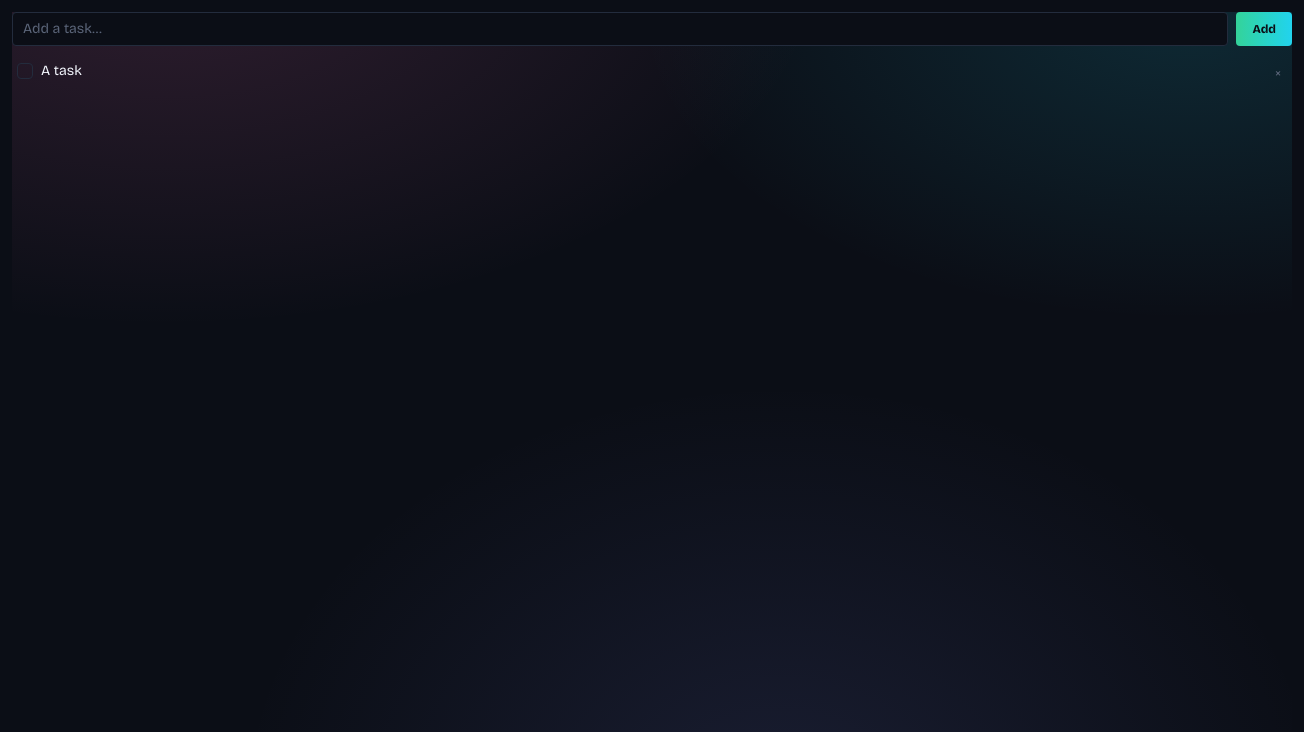
Test: editing a todo › abandons the edit on Escape
Click the button "A task" at {"x": 61, "y": 70}, box left=37, top=59, right=1267, bottom=82
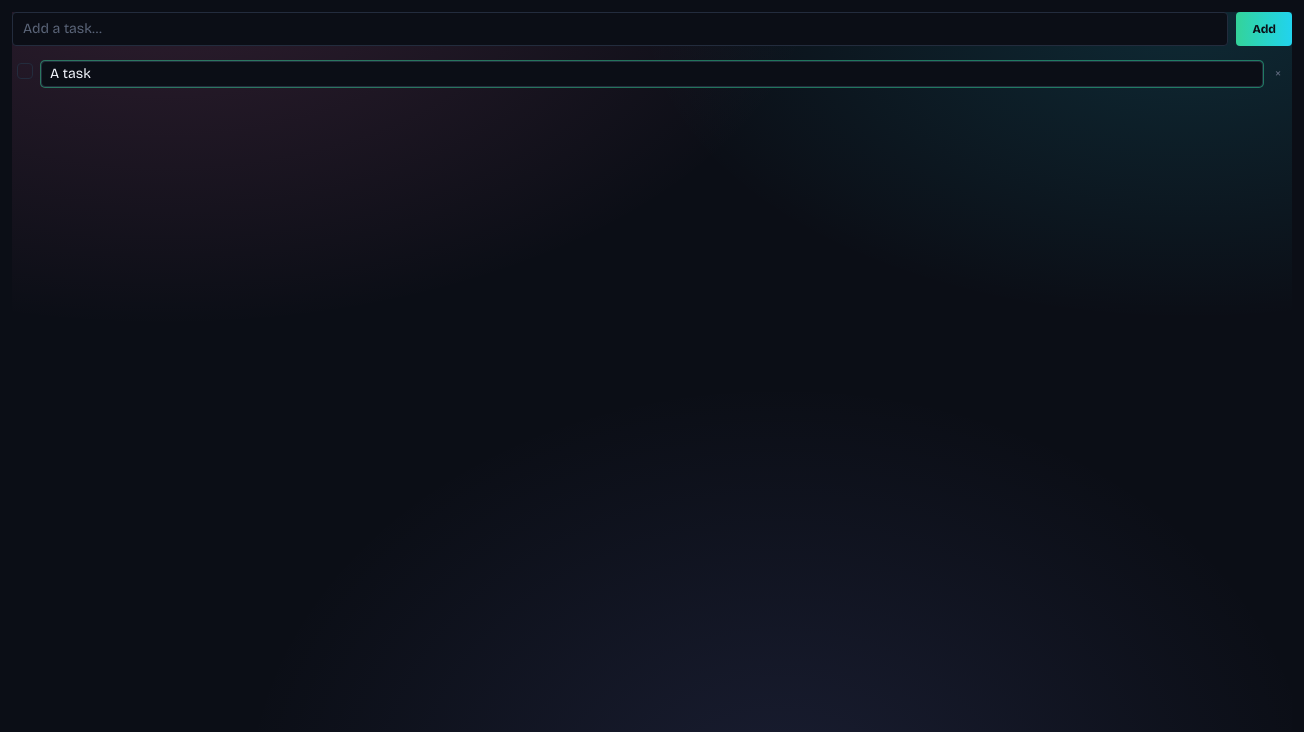
Type " changed" into the field named "Edit \"A task\"" at {"x": 652, "y": 74}, box left=41, top=61, right=1263, bottom=87
Then press Escape
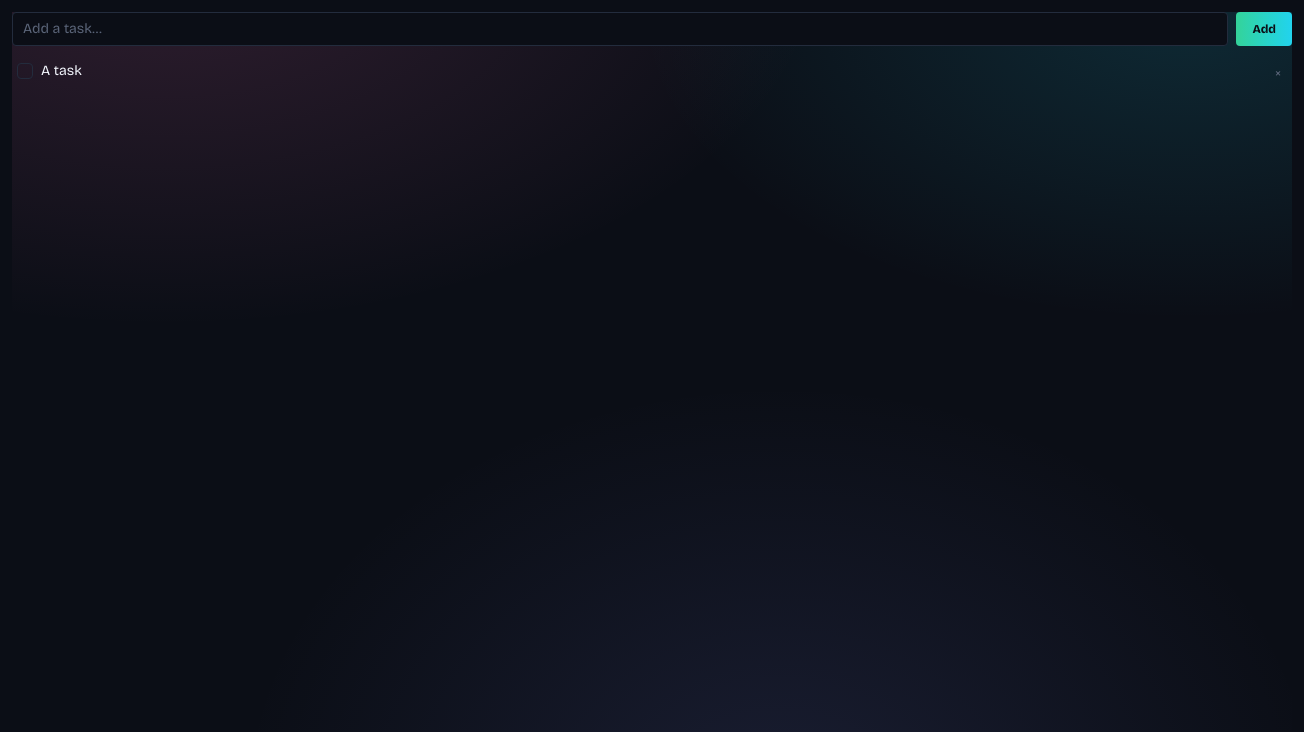
Now the button "A task" is shown, box left=37, top=59, right=1267, bottom=82
